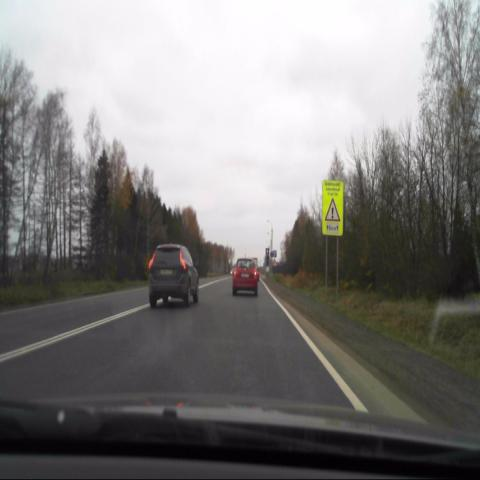1_33: (324, 197, 340, 221)
